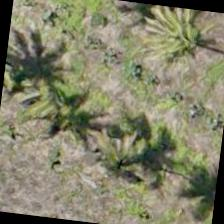Kelapa_Sawit: (50, 94, 150, 194), (0, 42, 98, 143), (121, 2, 218, 78)
